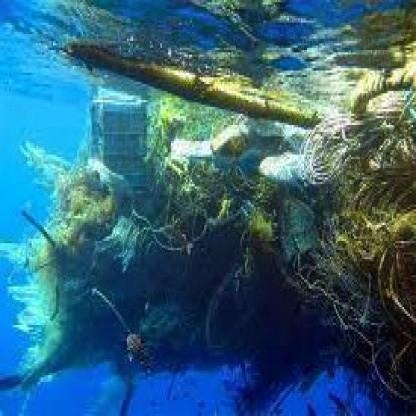net: (325, 51, 416, 401)
rod: (70, 36, 336, 138)
